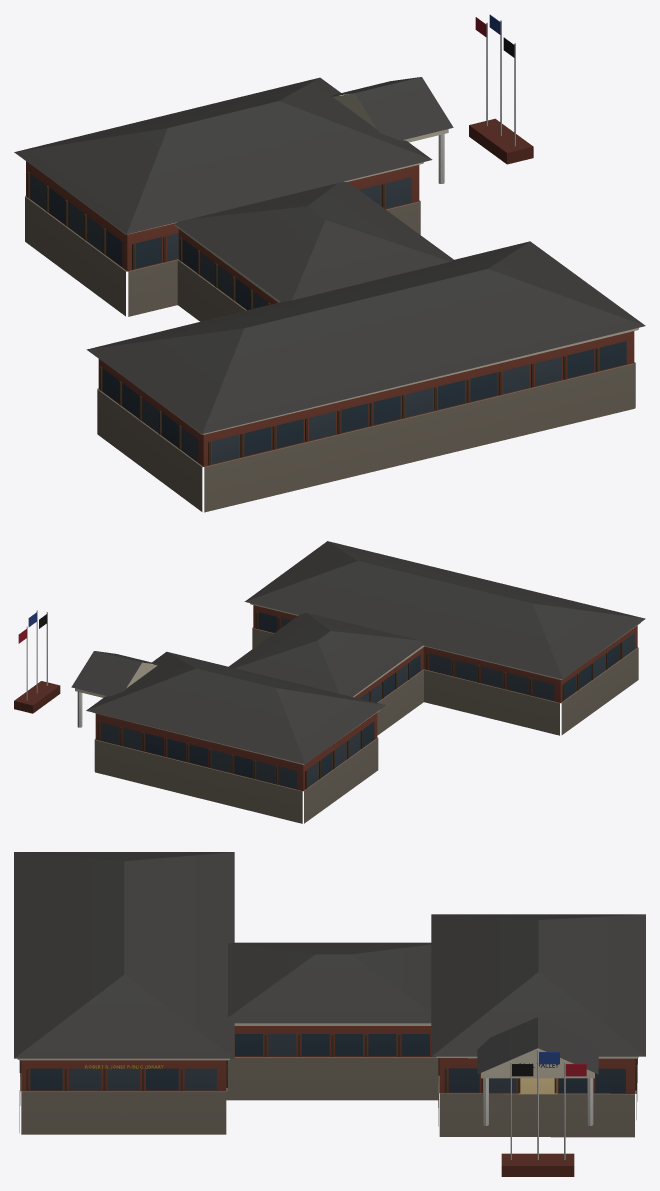
The model's file is cv_municipal.glb.
The picture shows the model from 3 angles, top to bottom: view 1: azimuth 30°, elevation 25°; view 2: azimuth 150°, elevation 25°; view 3: azimuth 270°, elevation 25°; orthographic projection. The views are drawn at different scales.
Visible parts, largest first — view 1: cv_municipal_lod0; view 2: cv_municipal_lod0; view 3: cv_municipal_lod0.
Boxes of the visible parts, <box> form: cv_municipal_lod0: <box>14,14,645,512</box>; cv_municipal_lod0: <box>14,541,645,823</box>; cv_municipal_lod0: <box>14,852,645,1176</box>.
Size of what is drawn, in the model's own units: 53.3 by 13.5 by 52.1.
